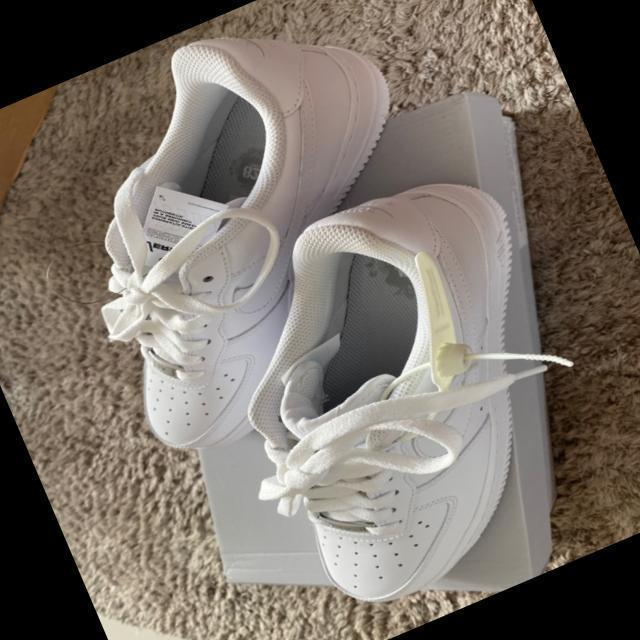nike original air force: (3, 0, 502, 477), (146, 150, 629, 640)
